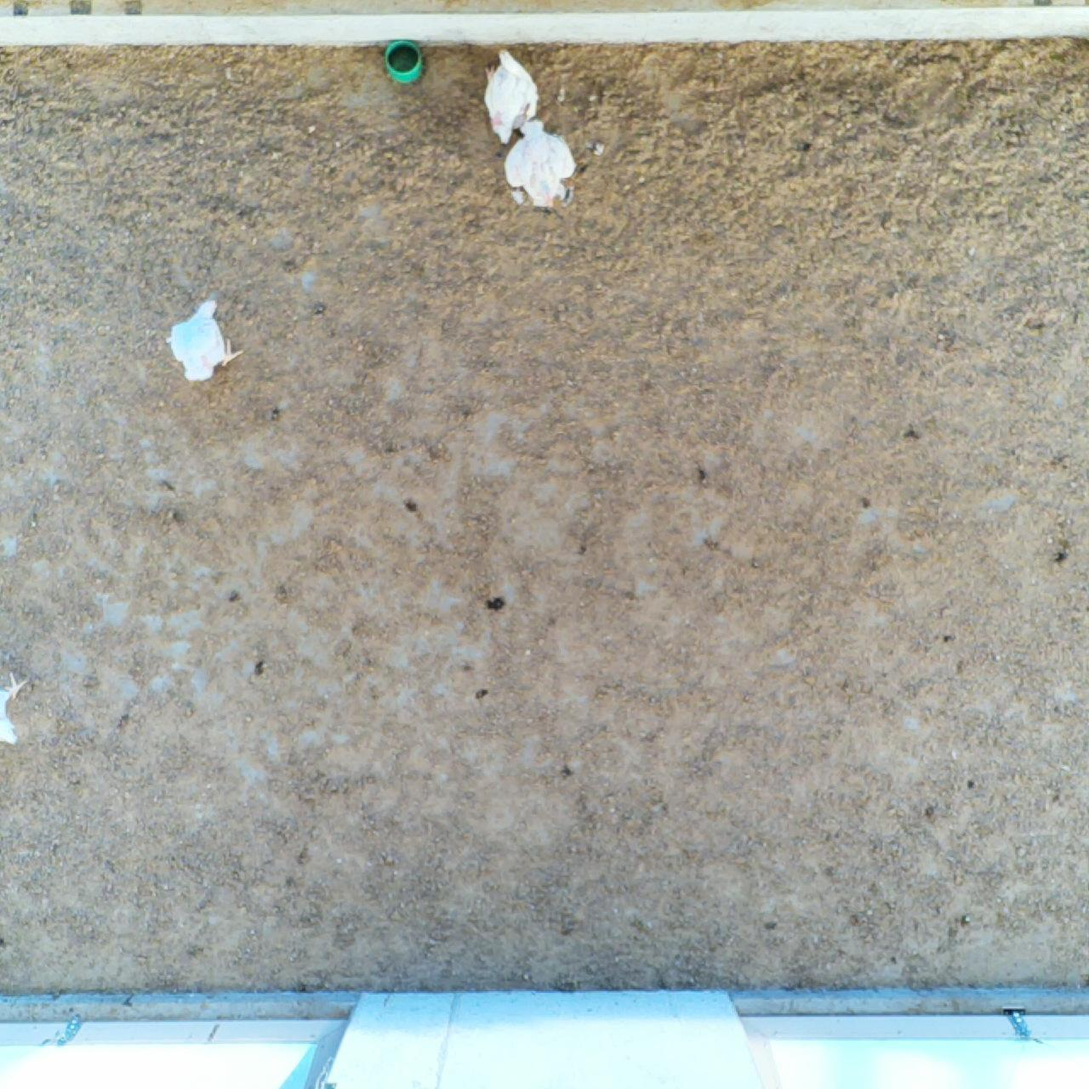chicken: (500, 117, 581, 212), (163, 296, 243, 387), (480, 44, 541, 146), (0, 661, 33, 753)
